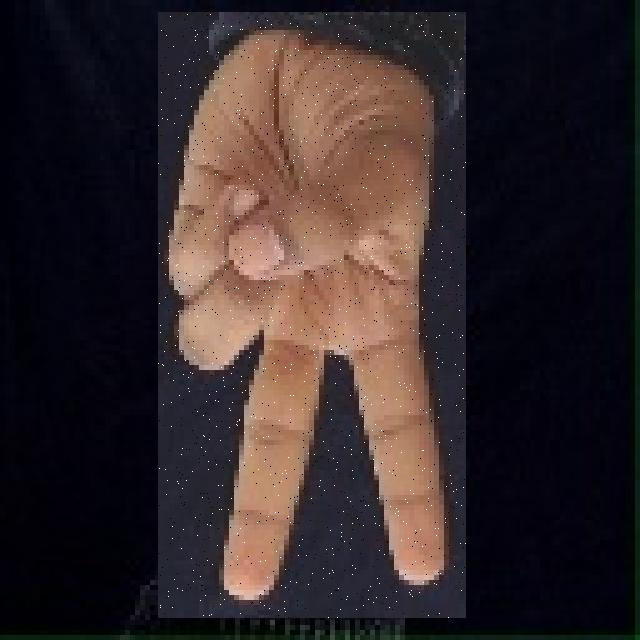No: (158, 12, 466, 618)
